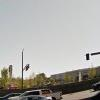Tree: (2, 63, 10, 85)
